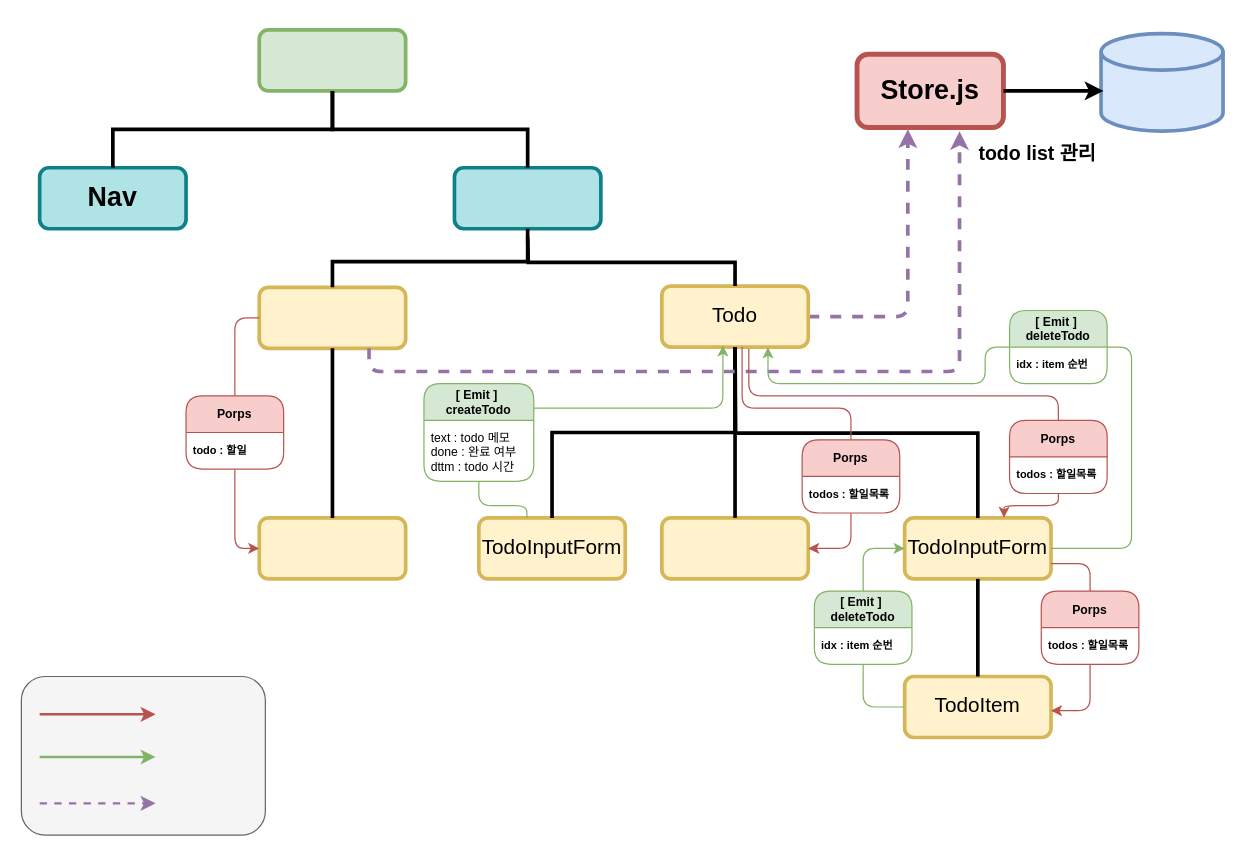
The diagram is 1246 pixels wide and 856 high, and some of its shapes have lost their labels. The shapes that lost their labels are listed below. From the top down, each one's centre as x and y in pixels, then its label:
pixel 332 59: Root
pixel 1161 81: Local storage
pixel 527 197: Contents
pixel 332 317: Calender
pixel 332 547: PostIt
pixel 734 547: TodoCount
pixel 142 755: Props Emit import
